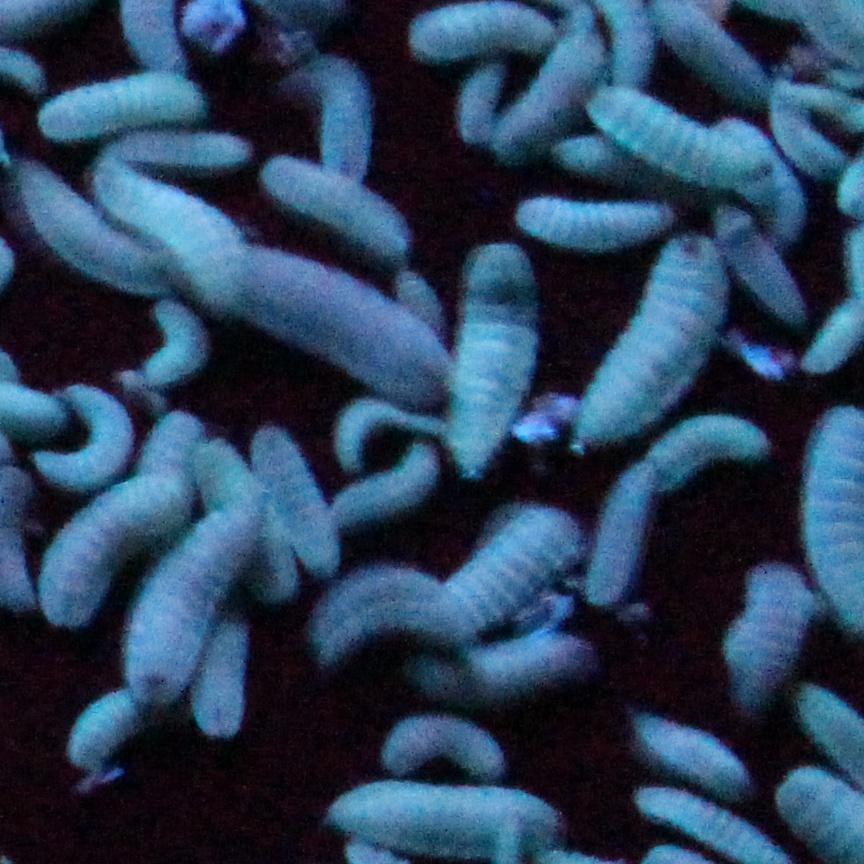larve: (192, 241, 445, 414), (307, 512, 576, 657), (569, 228, 725, 441), (129, 501, 260, 704), (36, 472, 185, 635), (3, 154, 169, 292), (596, 74, 781, 197), (89, 154, 254, 288), (449, 234, 541, 472), (187, 437, 310, 604), (318, 783, 565, 854), (241, 421, 345, 581), (260, 154, 418, 259), (265, 41, 378, 177), (490, 35, 609, 155), (621, 699, 761, 801), (389, 641, 600, 704), (27, 72, 214, 137), (714, 121, 812, 244), (714, 206, 809, 332), (725, 554, 807, 699), (43, 374, 134, 492), (185, 604, 261, 743), (507, 188, 681, 248), (54, 679, 161, 772), (125, 294, 218, 399), (638, 415, 767, 490), (325, 441, 447, 519), (381, 710, 516, 775), (589, 468, 656, 595), (416, 1, 561, 59), (330, 386, 403, 468), (440, 57, 510, 135), (100, 130, 234, 170)
